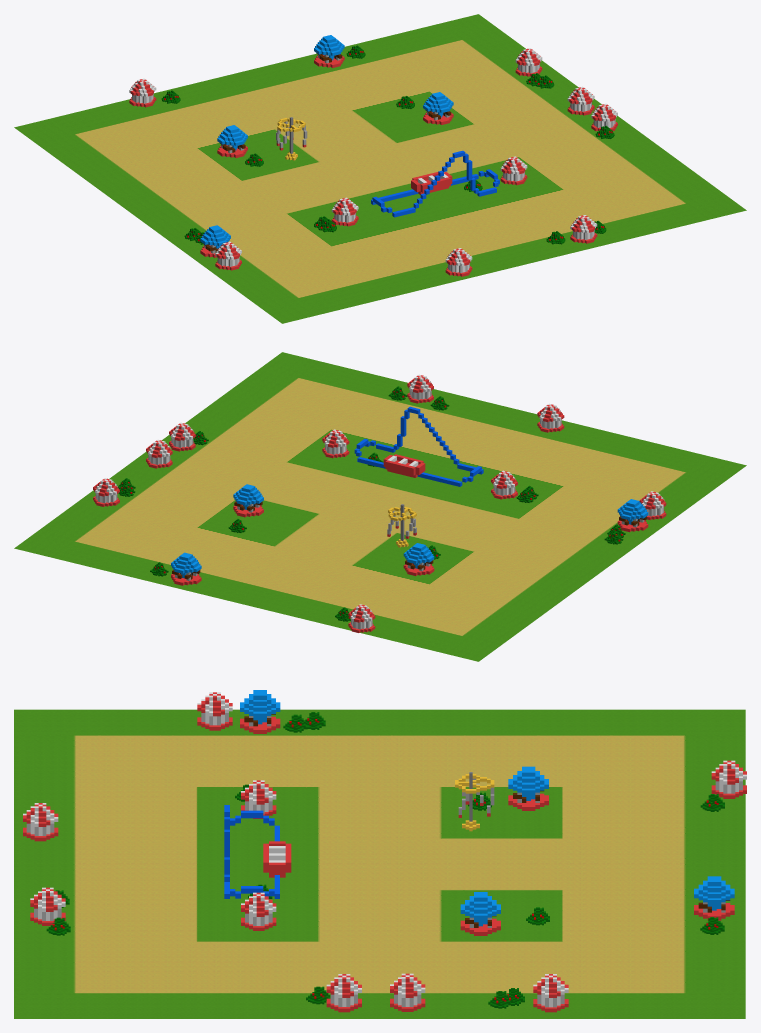
The model's file is Map20.fbx.
3 renders of one model, top to bottom at view 1: azimuth 30°, elevation 25°; view 2: azimuth 150°, elevation 25°; view 3: azimuth 270°, elevation 25°, orthographic. The views are drawn at different scales.
Parts seen in each view (by area): view 1: pPlane1, JetCoaster, MerryGoRound1, MerryGoRound3, MerryGoRound, Swing1, MerryGoRound2, MagicRoom6, MagicRoom, MagicRoom3, MagicRoom5, MagicRoom7 (+4 smaller); view 2: pPlane1, JetCoaster, MerryGoRound, MerryGoRound1, MerryGoRound3, MerryGoRound2, Swing1, MagicRoom, MagicRoom6, MagicRoom4, MagicRoom2, MagicRoom3 (+4 smaller); view 3: pPlane1, JetCoaster, MerryGoRound2, MerryGoRound3, MerryGoRound1, MerryGoRound, Swing1, MagicRoom6, MagicRoom3, MagicRoom4, MagicRoom7, MagicRoom (+4 smaller).
Part boxes in pixels (x1,y1,x2,y2): pPlane1: (14,14,746,323); JetCoaster: (371,150,499,217); MerryGoRound1: (217,125,247,157); MerryGoRound3: (314,35,344,67); MerryGoRound: (423,92,453,124); Swing1: (276,117,307,160); MerryGoRound2: (200,225,230,257); MagicRoom6: (445,248,472,276); MagicRoom: (500,156,527,185); MagicRoom3: (567,86,594,115); MagicRoom5: (570,215,597,243); MagicRoom7: (215,241,241,270); pPlane1: (14,352,746,661); JetCoaster: (354,406,483,486); MerryGoRound: (233,484,263,517); MerryGoRound1: (403,543,434,575); MerryGoRound3: (171,552,201,585); MerryGoRound2: (617,499,648,532); Swing1: (387,504,416,547); MagicRoom: (322,429,349,458); MagicRoom6: (537,403,564,432); MagicRoom4: (169,422,195,451); MagicRoom2: (93,478,119,506); MagicRoom3: (146,439,172,468); pPlane1: (14,709,745,1018); JetCoaster: (224,805,291,898); MerryGoRound2: (240,690,280,733); MerryGoRound3: (694,876,734,920); MerryGoRound1: (508,766,548,810); MerryGoRound: (460,892,500,935); Swing1: (455,772,494,831); MagicRoom6: (23,803,58,841); MagicRoom3: (390,973,425,1011); MagicRoom4: (326,974,361,1012); MagicRoom7: (197,692,232,730); MagicRoom: (241,892,276,930).
Size of the model in its own units: 60 by 6.4 by 60.12.
